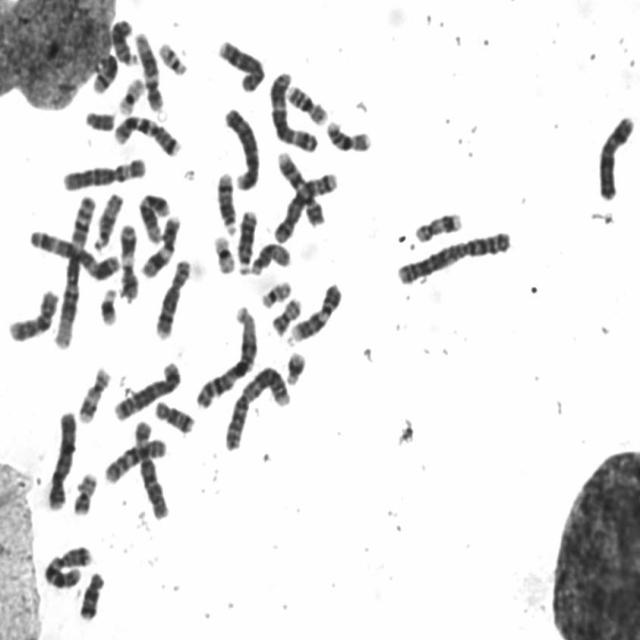A1: (49, 190, 98, 351), (191, 299, 261, 410)
A2: (392, 223, 514, 287), (220, 359, 292, 452)
A3: (26, 223, 122, 281), (265, 64, 320, 153)
B4: (219, 101, 262, 192), (43, 404, 79, 512)
B5: (270, 166, 341, 244), (110, 355, 184, 422)
C10: (100, 431, 170, 486), (4, 282, 62, 344)
C11: (137, 208, 184, 281), (115, 217, 142, 302)
C12: (130, 26, 166, 112), (135, 187, 172, 244)
C6: (130, 413, 172, 521), (59, 150, 149, 192)
C7: (109, 108, 183, 158), (39, 539, 95, 591)
C8: (151, 253, 194, 341), (214, 33, 268, 94)
C9: (272, 145, 326, 227), (285, 277, 344, 345)
D13: (233, 204, 260, 274), (107, 13, 140, 67)
D14: (212, 166, 240, 236), (88, 47, 120, 94)
D15: (90, 187, 126, 252), (245, 236, 292, 276)
E16: (282, 78, 330, 126), (322, 114, 373, 153)
E17: (74, 361, 112, 425), (410, 204, 465, 245)
E18: (151, 394, 197, 435), (75, 566, 107, 622)
F19: (208, 228, 238, 275), (115, 72, 146, 116)
F20: (268, 290, 304, 336), (69, 465, 100, 517)
G21: (282, 345, 309, 387), (96, 282, 120, 328)
G22: (154, 36, 190, 76), (256, 275, 294, 309)
X: (594, 109, 638, 202)
Y: (81, 104, 117, 133)
